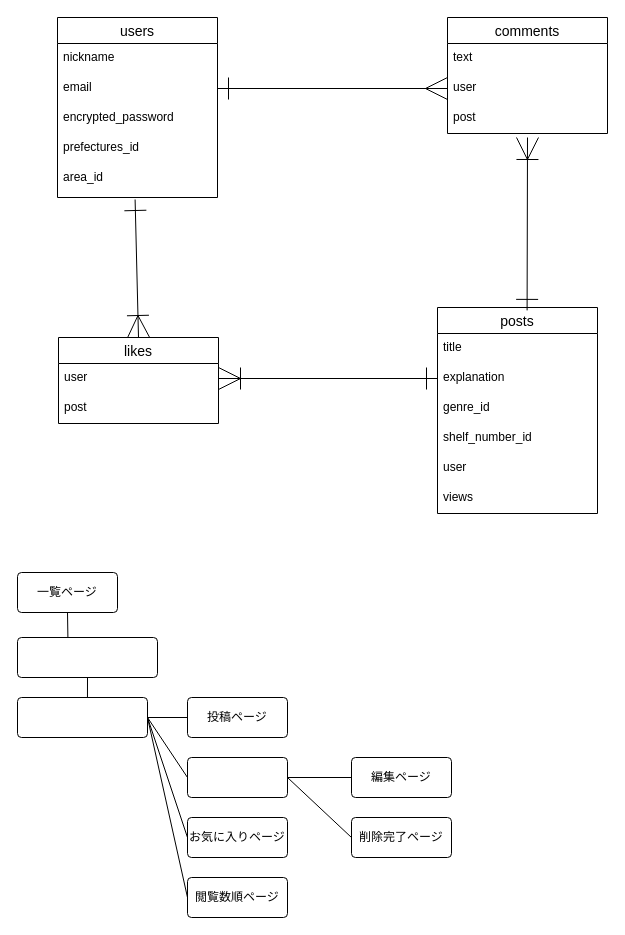
The diagram is 625 pixels wide and 935 high, and some of its shapes have lost their labels. Here are the shapes that lost their labels. From the top down, the centre of each, then its label:
At (x=87, y=657): "ユーザの新規登録ページ".
At (x=82, y=717): "ユーザログインページ".
At (x=237, y=777): "詳細ページ".
